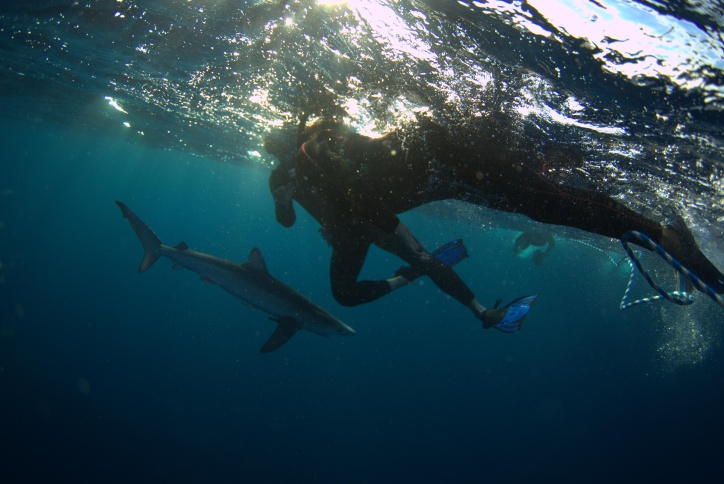Azul: (110, 188, 378, 368)
